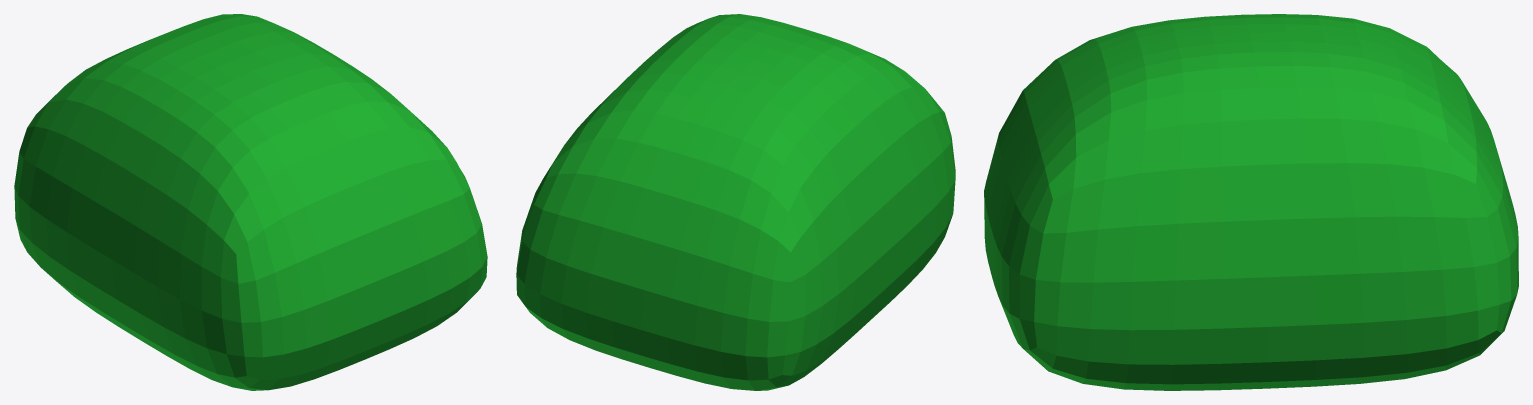
File: EntranceGateBush3.fbx
3 views of the same model, side by side, from view 1: azimuth 30°, elevation 25°; view 2: azimuth 150°, elevation 25°; view 3: azimuth 270°, elevation 25° (orthographic). The views are drawn at different scales.
Parts seen in each view (by area): view 1: EntranceGateBush3; view 2: EntranceGateBush3; view 3: EntranceGateBush3.
Boxes of the visible parts, x1=… form: EntranceGateBush3: x1=14, y1=14, x2=487, y2=390; EntranceGateBush3: x1=516, y1=14, x2=955, y2=390; EntranceGateBush3: x1=984, y1=14, x2=1518, y2=390.
Bounding box in the file's own units: 2.61 × 2.22 × 3.38.
